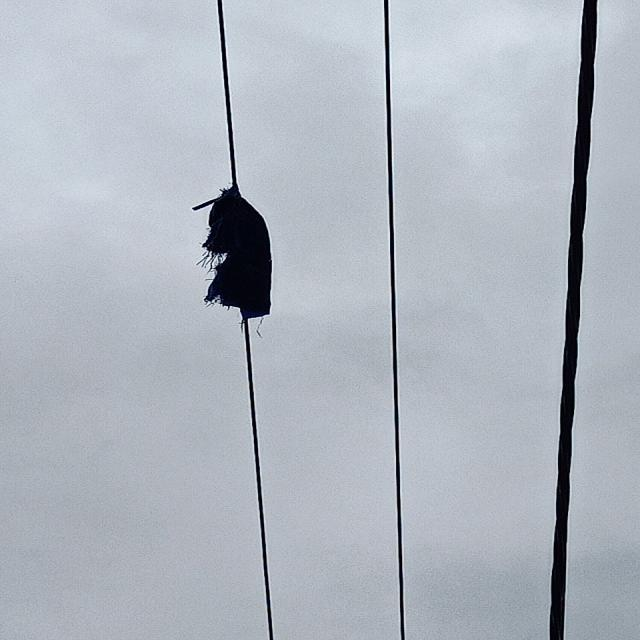植被遮挡: (179, 177, 281, 328)
